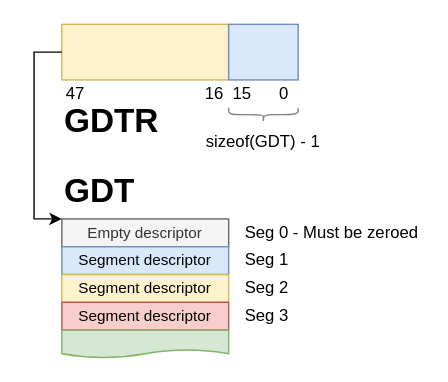
Some shapes in this 448 by 382 pixel diagram are drawn without their labels. Here are the shapes that lost their labels. From the top down, the centre of each, then its label:
At (144,51): "Base".
At (262,51): "Limit".
